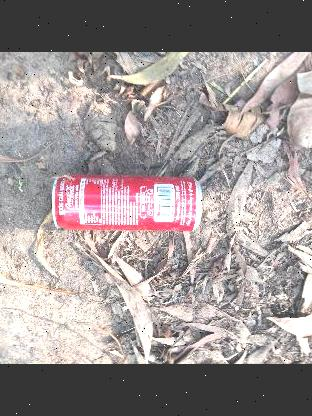Can: (50, 172, 202, 233)
